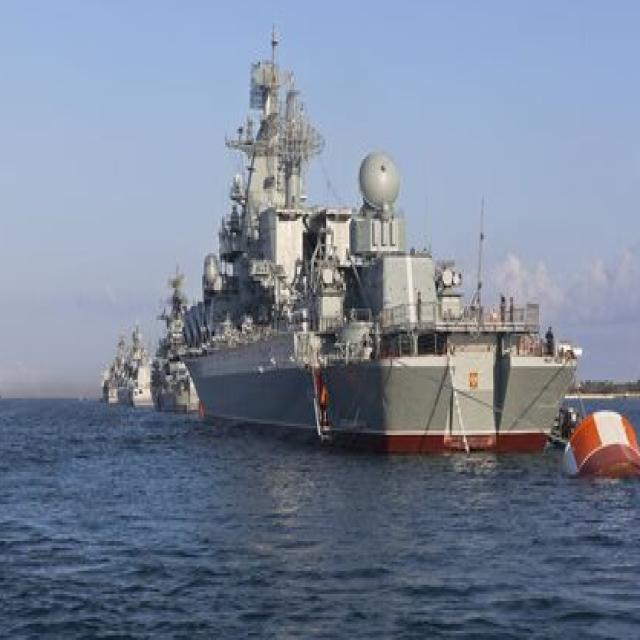navalvessels: (150, 74, 575, 452), (152, 231, 197, 403), (122, 318, 150, 419)
